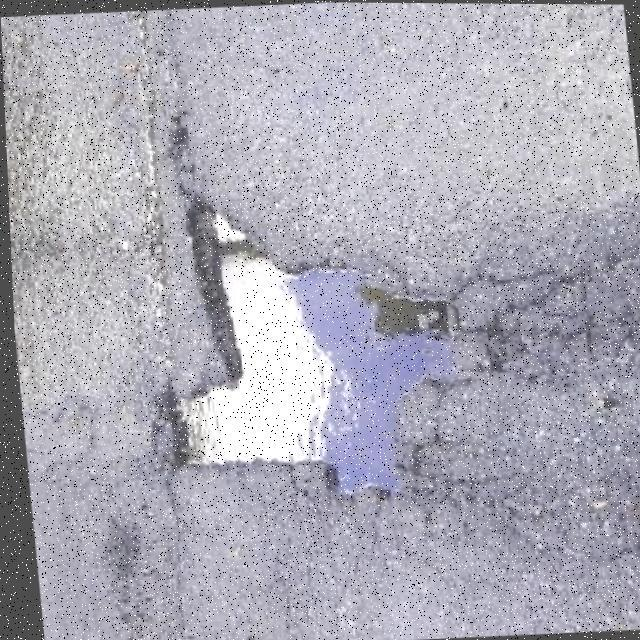pothole: (126, 178, 488, 514)
